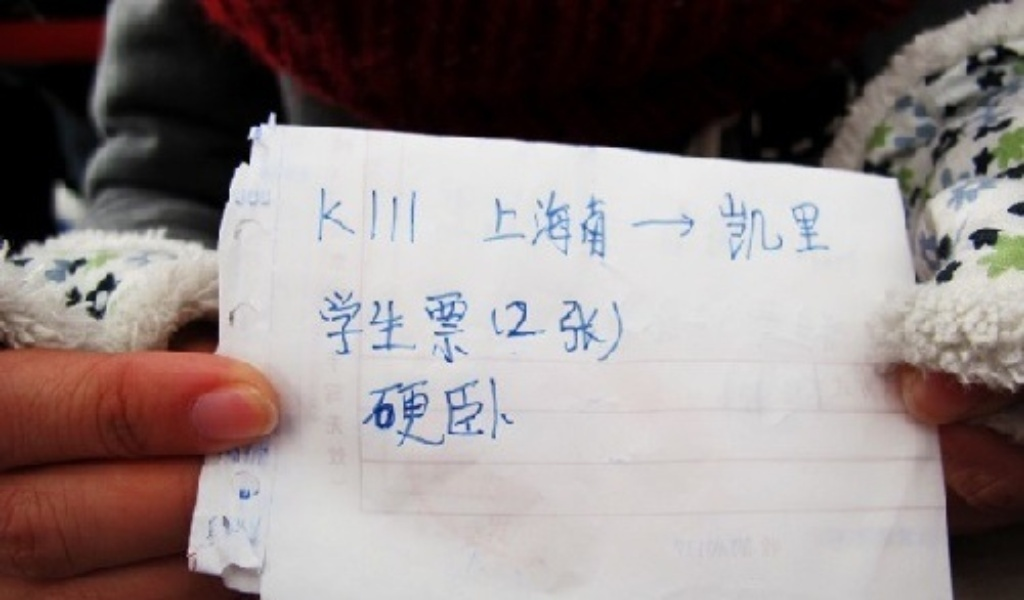text: (497, 379, 513, 453), (321, 289, 336, 367), (337, 289, 352, 367), (353, 289, 368, 367), (369, 289, 384, 367), (385, 289, 400, 367), (401, 289, 416, 367), (417, 289, 432, 367), (433, 289, 448, 367), (449, 289, 464, 367), (465, 289, 480, 367), (481, 289, 496, 367), (497, 289, 512, 367), (513, 289, 528, 367), (529, 289, 544, 367), (545, 289, 560, 367), (561, 289, 576, 367), (577, 289, 592, 367), (593, 289, 608, 367), (609, 289, 624, 367), (481, 189, 496, 265), (497, 189, 512, 265), (513, 189, 528, 265), (529, 189, 544, 265), (545, 189, 560, 265), (561, 189, 576, 265), (577, 189, 592, 265), (593, 189, 608, 265), (609, 189, 624, 265), (625, 189, 640, 265), (641, 189, 656, 265), (657, 189, 672, 265), (673, 189, 688, 265), (689, 189, 704, 265), (705, 189, 720, 265), (721, 189, 736, 265), (737, 189, 752, 265), (753, 189, 768, 265), (769, 189, 784, 265), (785, 189, 800, 265), (801, 189, 816, 265), (817, 189, 832, 265), (369, 379, 384, 453), (385, 379, 400, 453), (401, 379, 416, 453), (417, 379, 432, 453), (433, 379, 448, 453), (449, 379, 464, 453), (465, 379, 480, 453), (481, 379, 496, 453), (321, 187, 336, 244), (337, 187, 352, 244), (353, 187, 368, 244), (369, 187, 384, 244), (385, 187, 400, 244), (401, 187, 416, 244), (363, 379, 368, 453), (316, 289, 320, 367), (625, 289, 629, 367), (318, 187, 320, 244), (417, 187, 418, 244)
